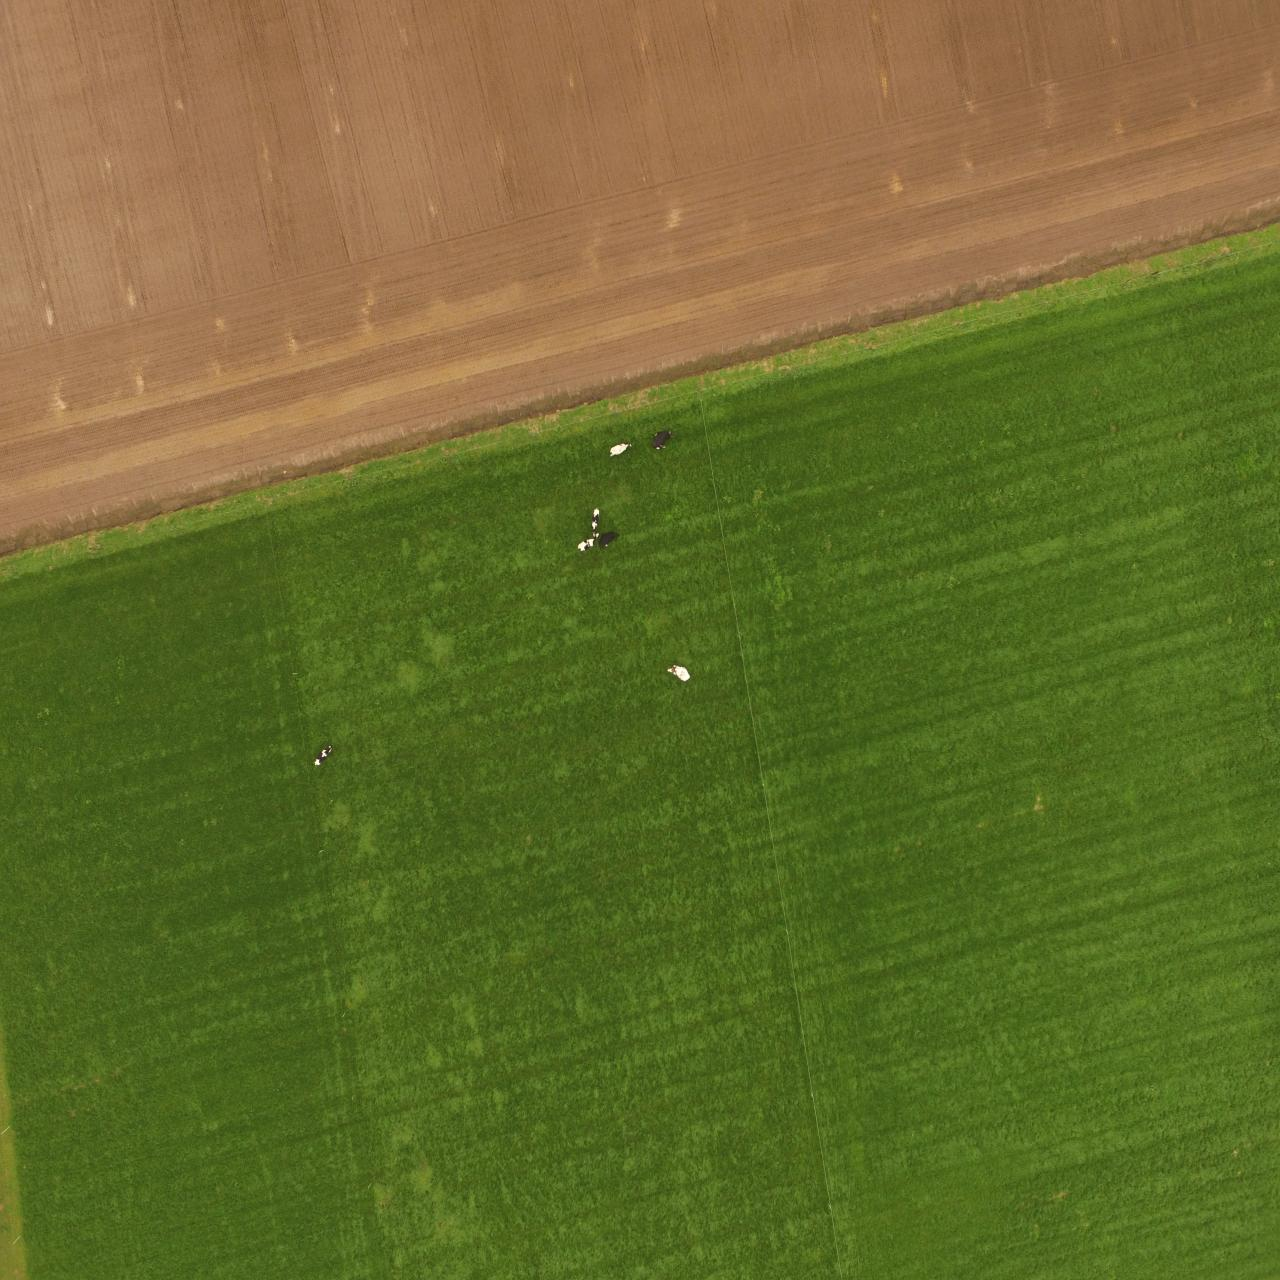cow: (598, 526, 622, 550), (312, 742, 333, 768), (651, 428, 675, 449), (665, 663, 692, 682), (605, 441, 631, 456), (590, 506, 600, 533), (576, 542, 595, 551)
